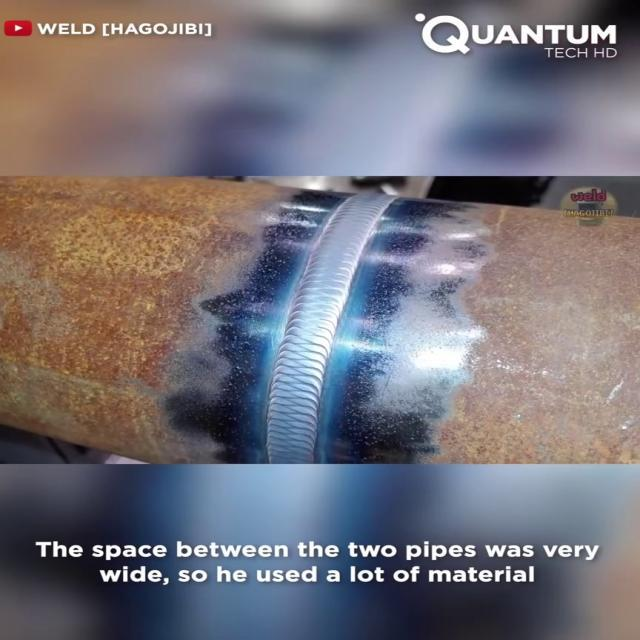Good Weld: (268, 186, 385, 464)
